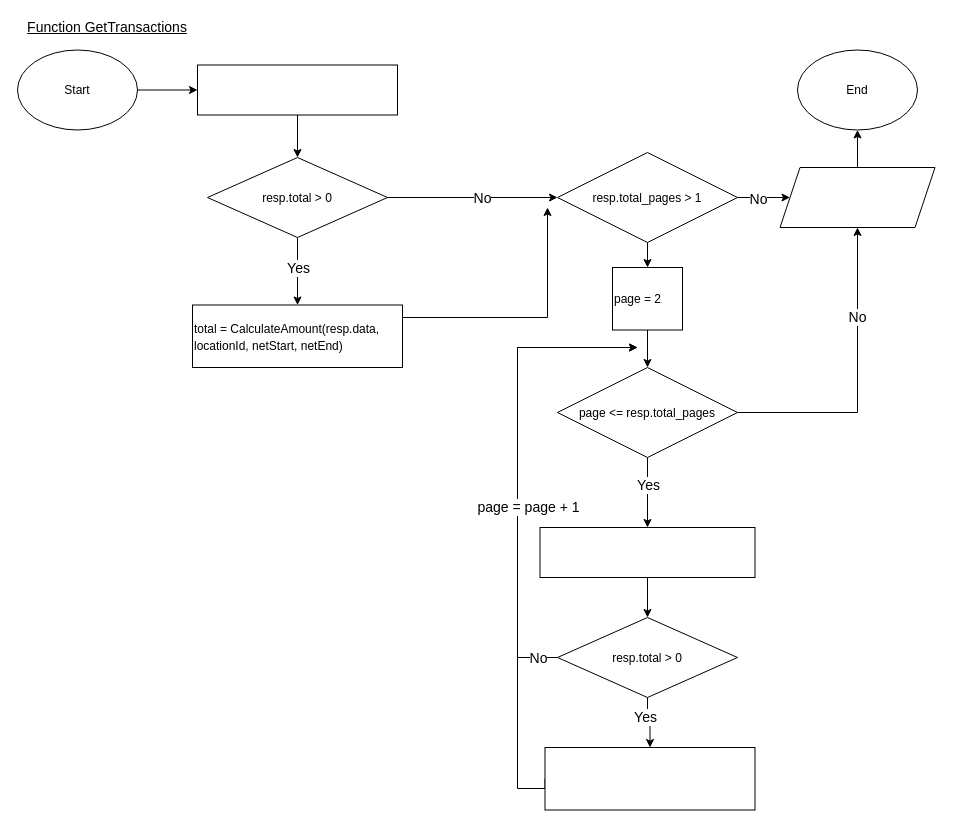
This 953x827 diagram has some shape labels left out. The box of each missing label's shape, as (x1, y1, x2, y2) in pixels:
resp = GetDataFromURL(userId, 1) total = 0: (196, 64, 398, 115)
resp = GetDataFromURL(userId, page): (539, 526, 755, 578)
return total: (779, 166, 935, 228)
total += CalculateAmount(resp.data, locationId, netStart, netEnd): (544, 746, 755, 810)
